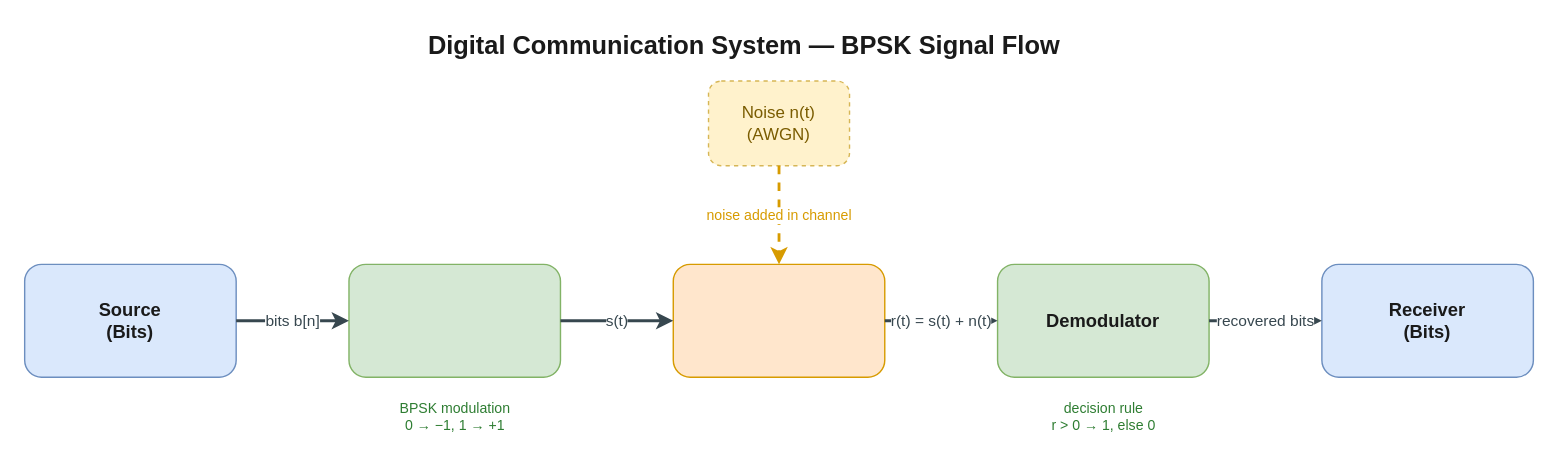
Some shapes in this 1558 by 471 pixel diagram are drawn without their labels. Here are the shapes that lost their labels. From the top down, the box of each, then its label:
(348, 263, 560, 377): BPSK Modulator
(672, 263, 885, 377): Channel (AWGN)
